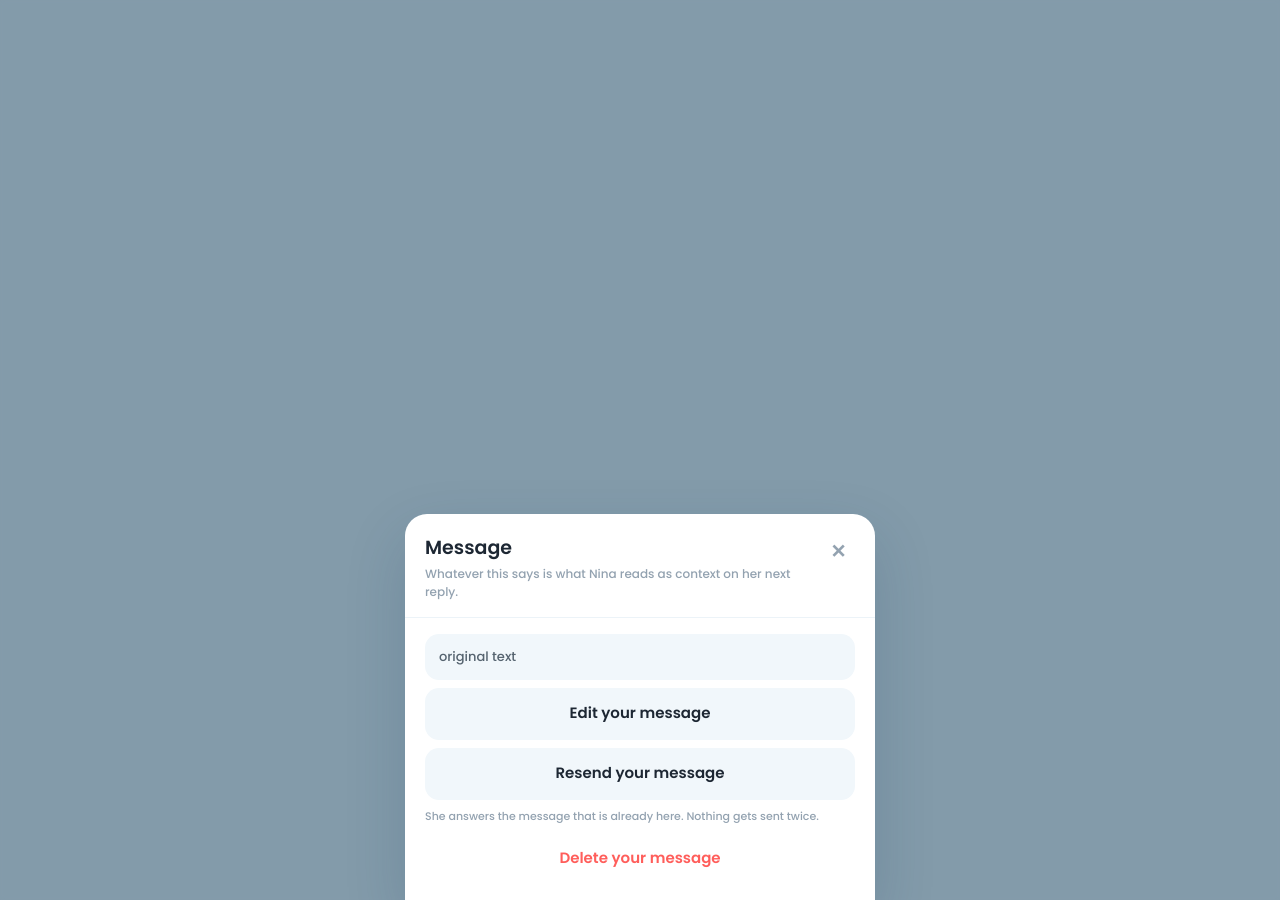
MessageActionsSheet › editing › the Back button returns to the menu without saving
The image size is (1280, 900).
Click the button "Edit your message" at (640, 714), box [425,688,855,740]
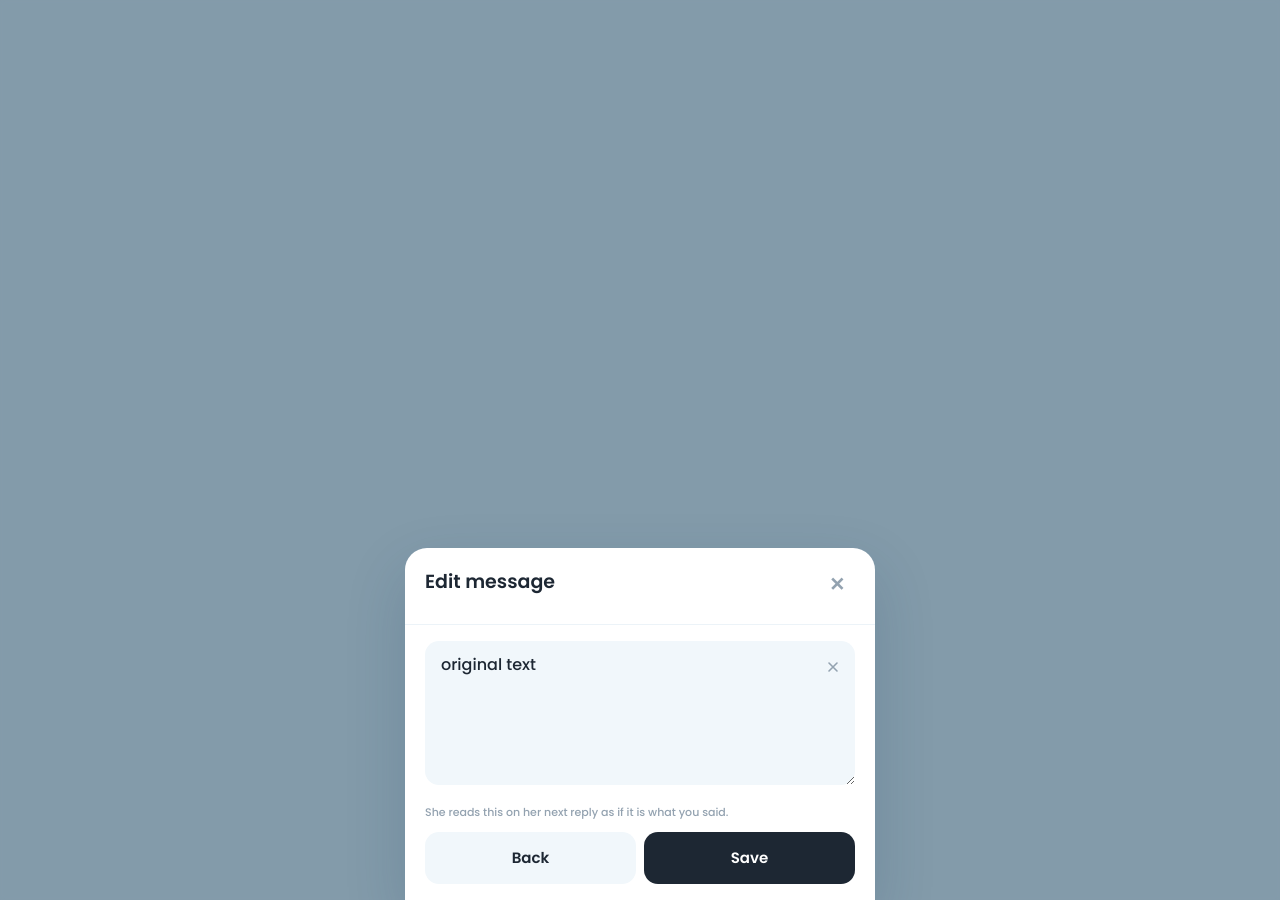
Replace the text in the text box with "a throwaway draft" at (640, 712), box [425,640,855,784]
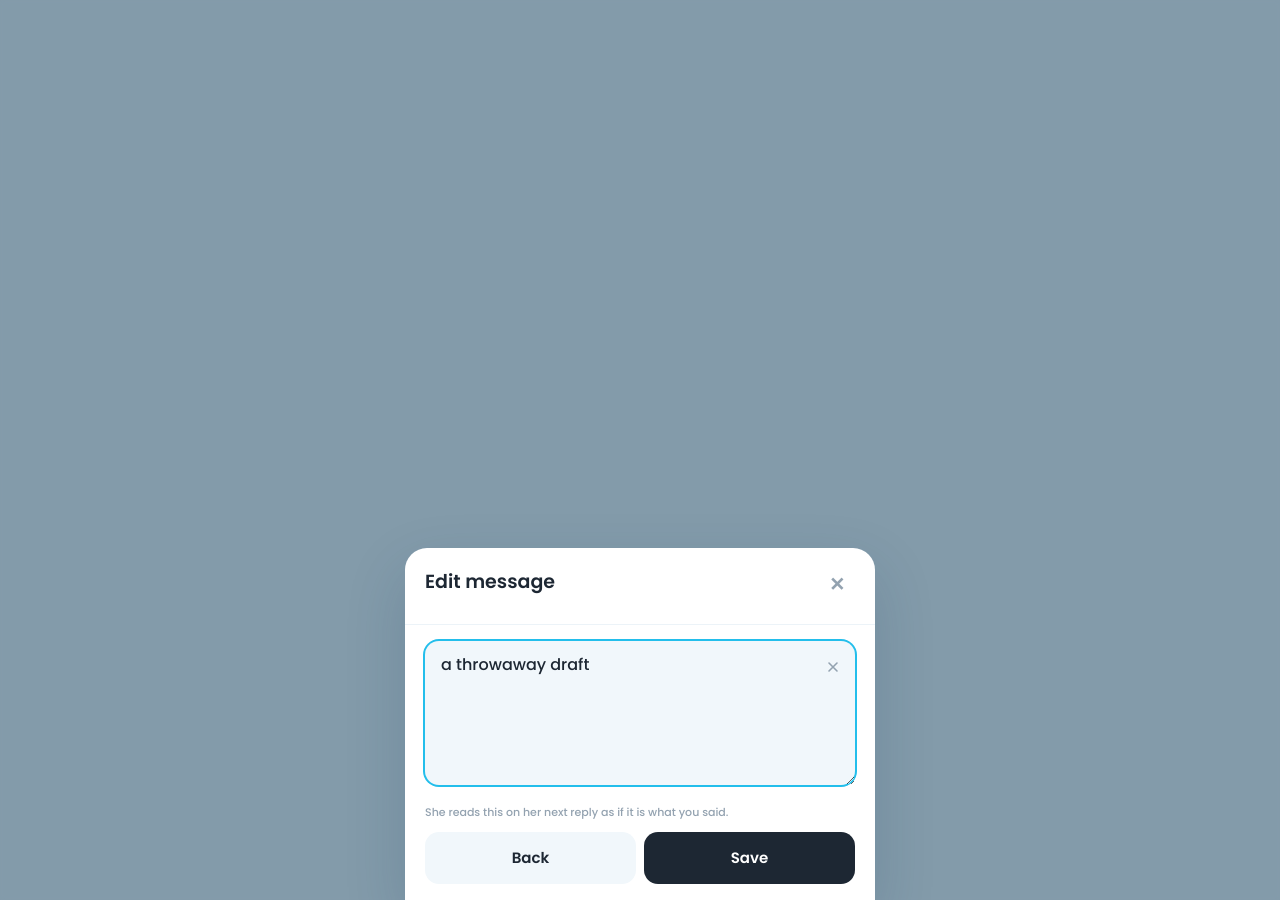
Click the button "Back" at (530, 858), box [425,832,636,884]
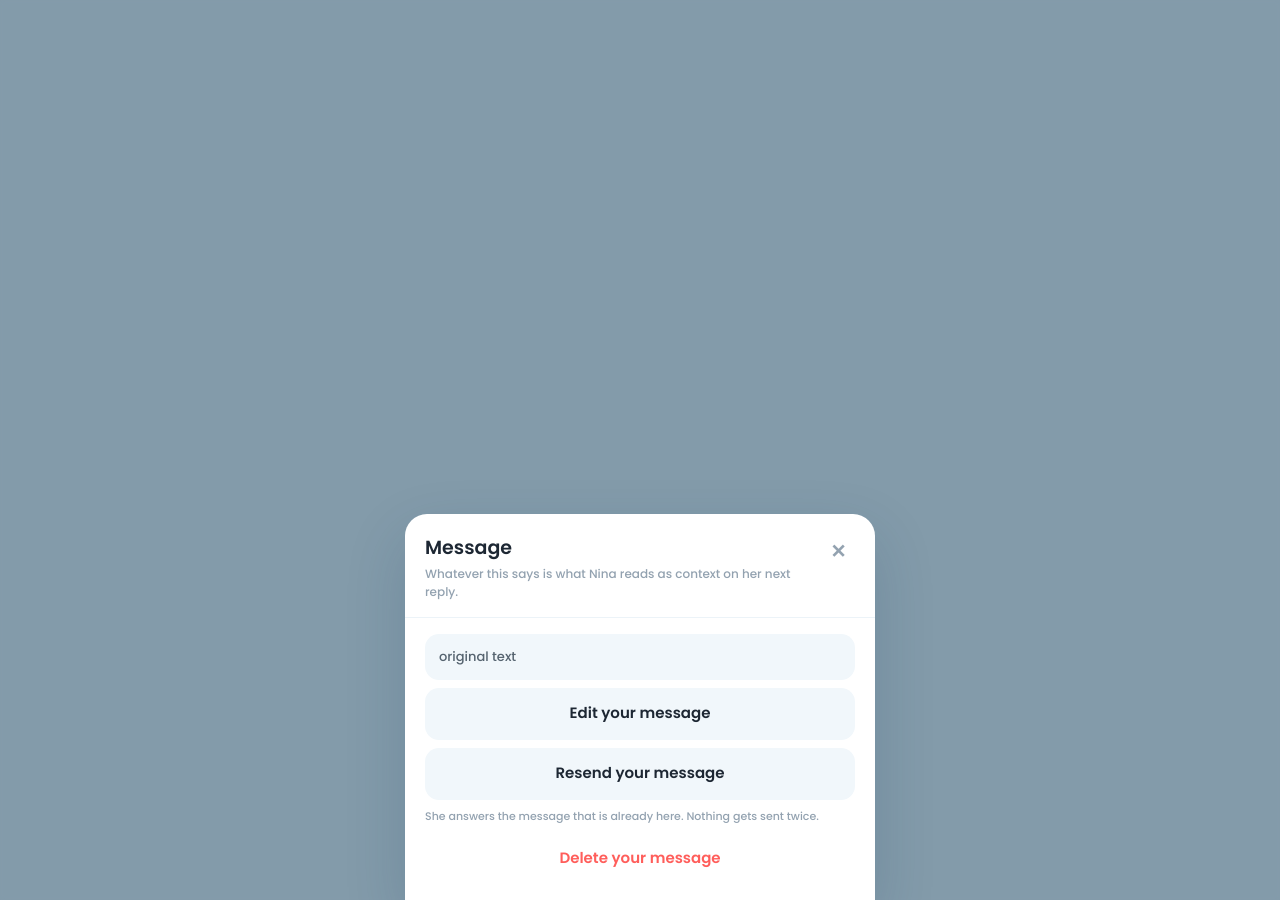
Check: the button "Save" is gone
Check: the text "original text" is shown, box [425,634,855,680]
